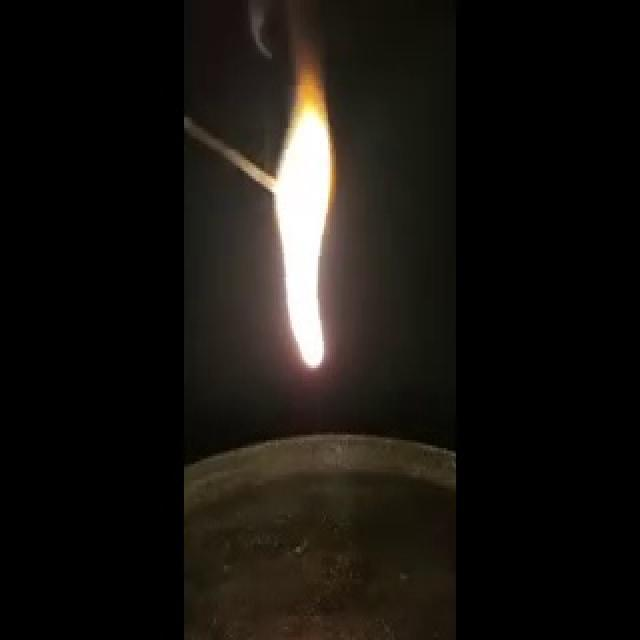fire: (269, 67, 347, 394)
